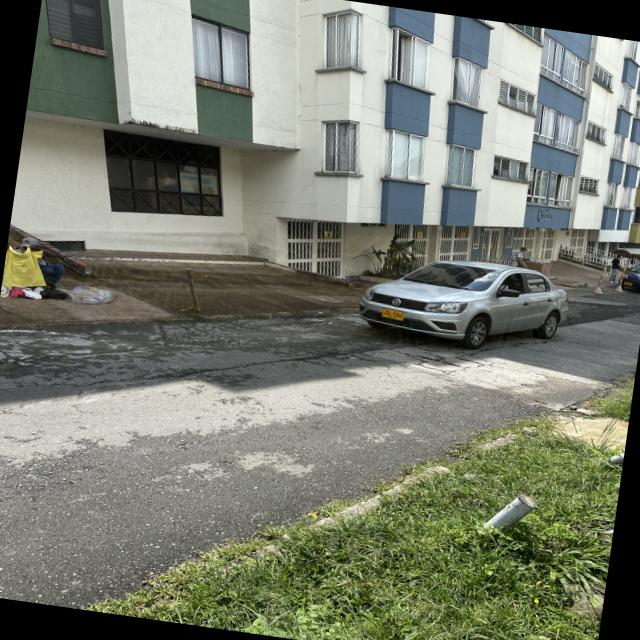number plate: (381, 308, 404, 321)
